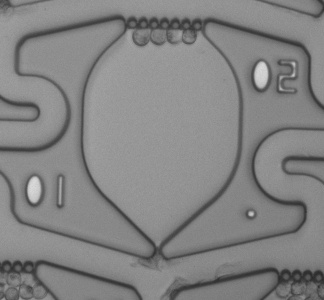AptNum: (250, 56, 300, 98)
Marker: (243, 206, 260, 222)
StNum: (23, 171, 69, 213)
